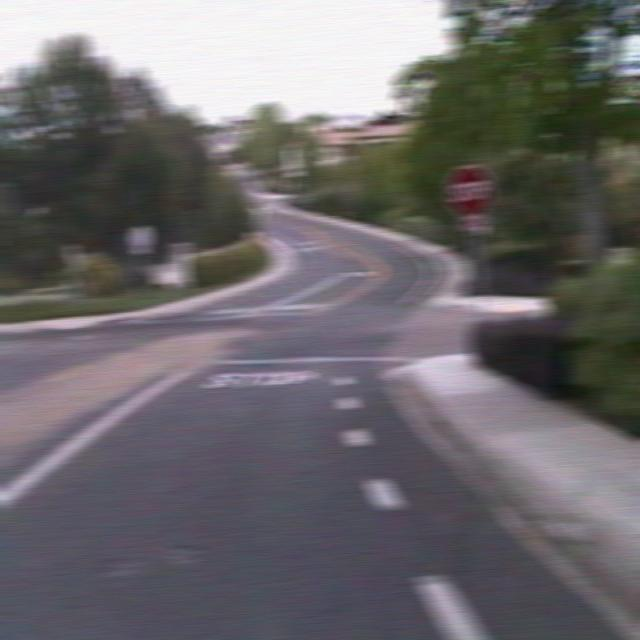stop_sign: (446, 162, 493, 218)
